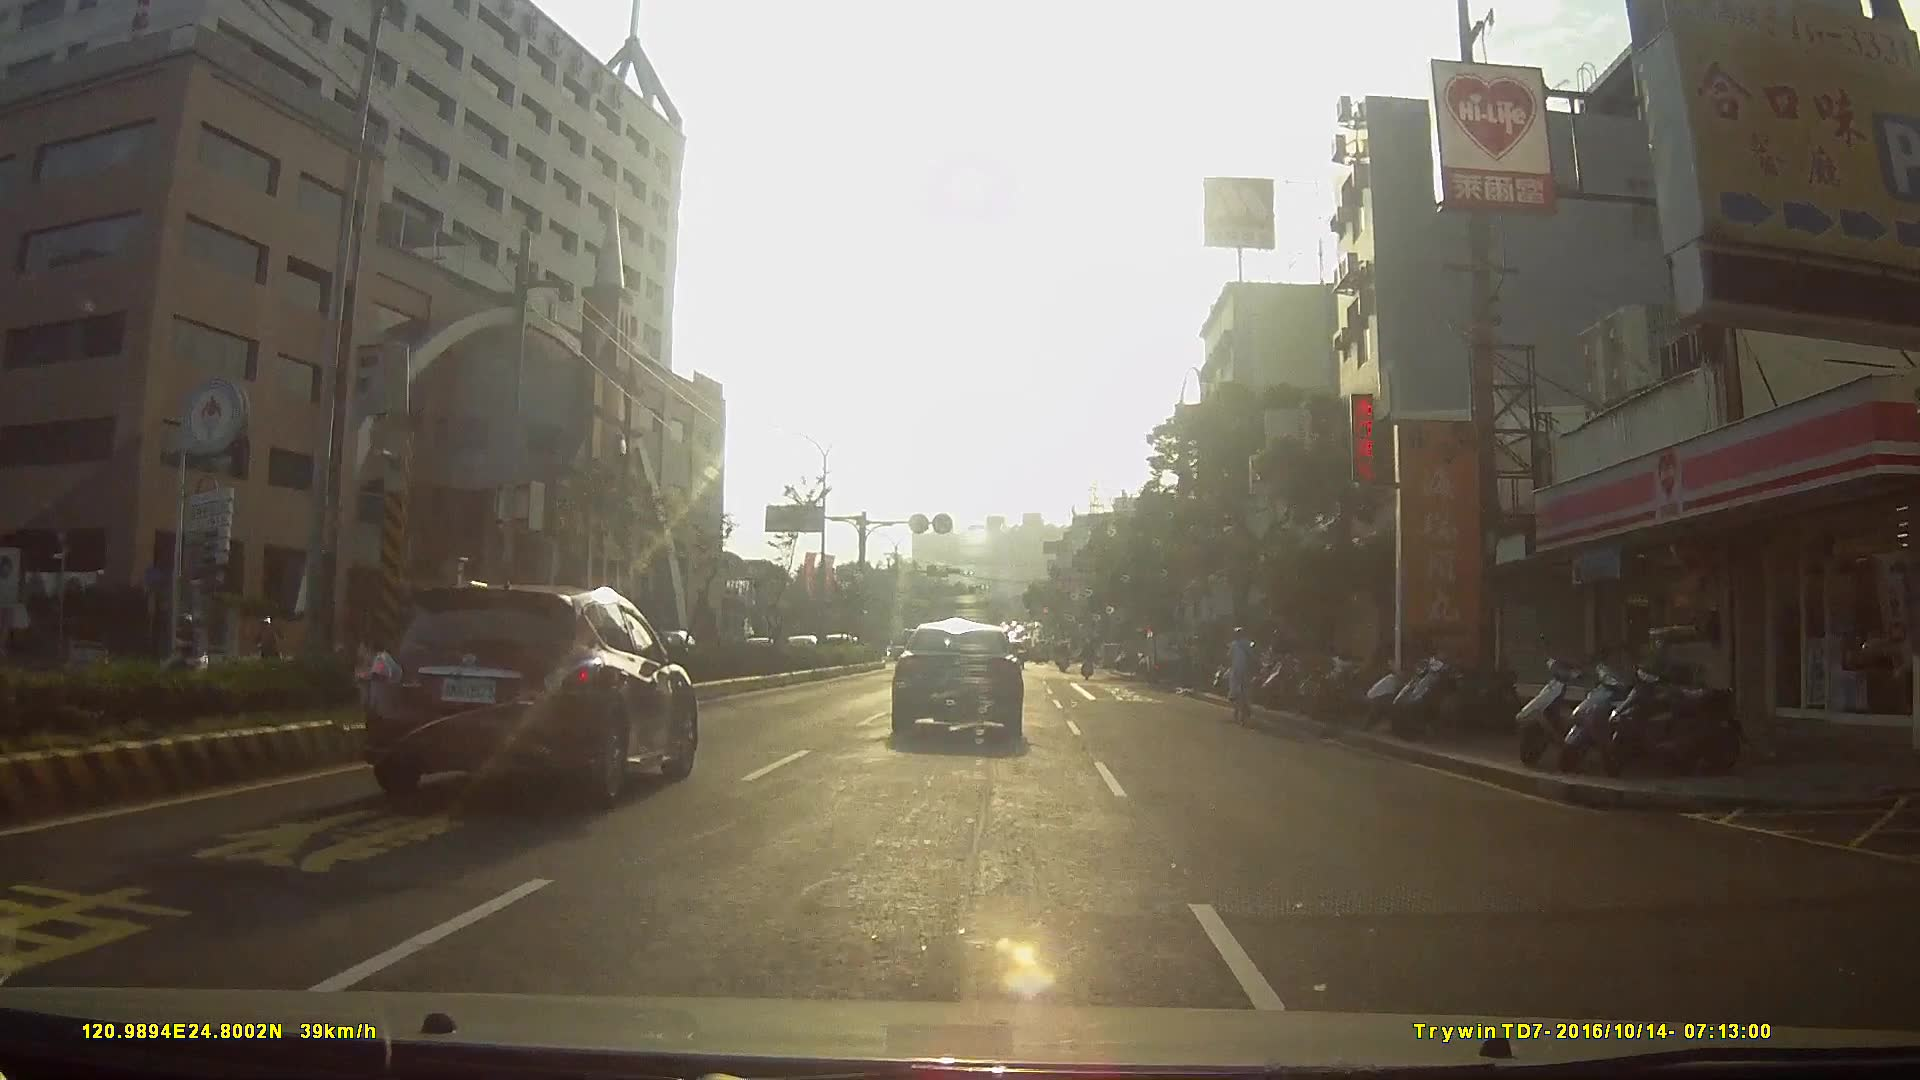rider: (150, 609, 220, 694), (222, 614, 283, 687), (1222, 627, 1262, 724)
vehicle: (356, 570, 716, 805), (888, 615, 1039, 747), (1142, 620, 1207, 683), (763, 607, 822, 662)
